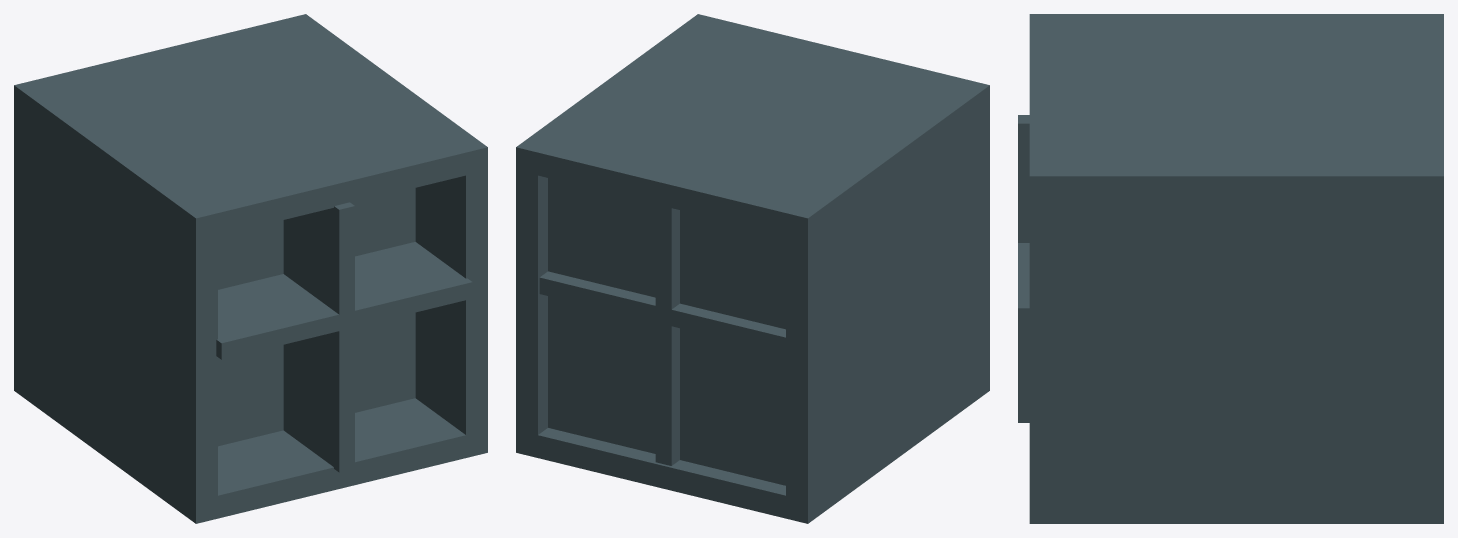
File: FacadeKit_StorefrontFrame_LOD0.glb
3 views of the same model, side by side, from view 1: azimuth 30°, elevation 25°; view 2: azimuth 150°, elevation 25°; view 3: azimuth 270°, elevation 25° (orthographic). The views are drawn at different scales.
Visible parts, largest first — view 1: FacadeKit_StorefrontFrame_LOD0; view 2: FacadeKit_StorefrontFrame_LOD0; view 3: FacadeKit_StorefrontFrame_LOD0.
Boxes of the visible parts, x1,y1,x2,y2 form: FacadeKit_StorefrontFrame_LOD0: (14, 14, 487, 523); FacadeKit_StorefrontFrame_LOD0: (516, 14, 989, 523); FacadeKit_StorefrontFrame_LOD0: (1018, 14, 1443, 523).
Bounding box in the file's own units: 1 × 1 × 1.11.
